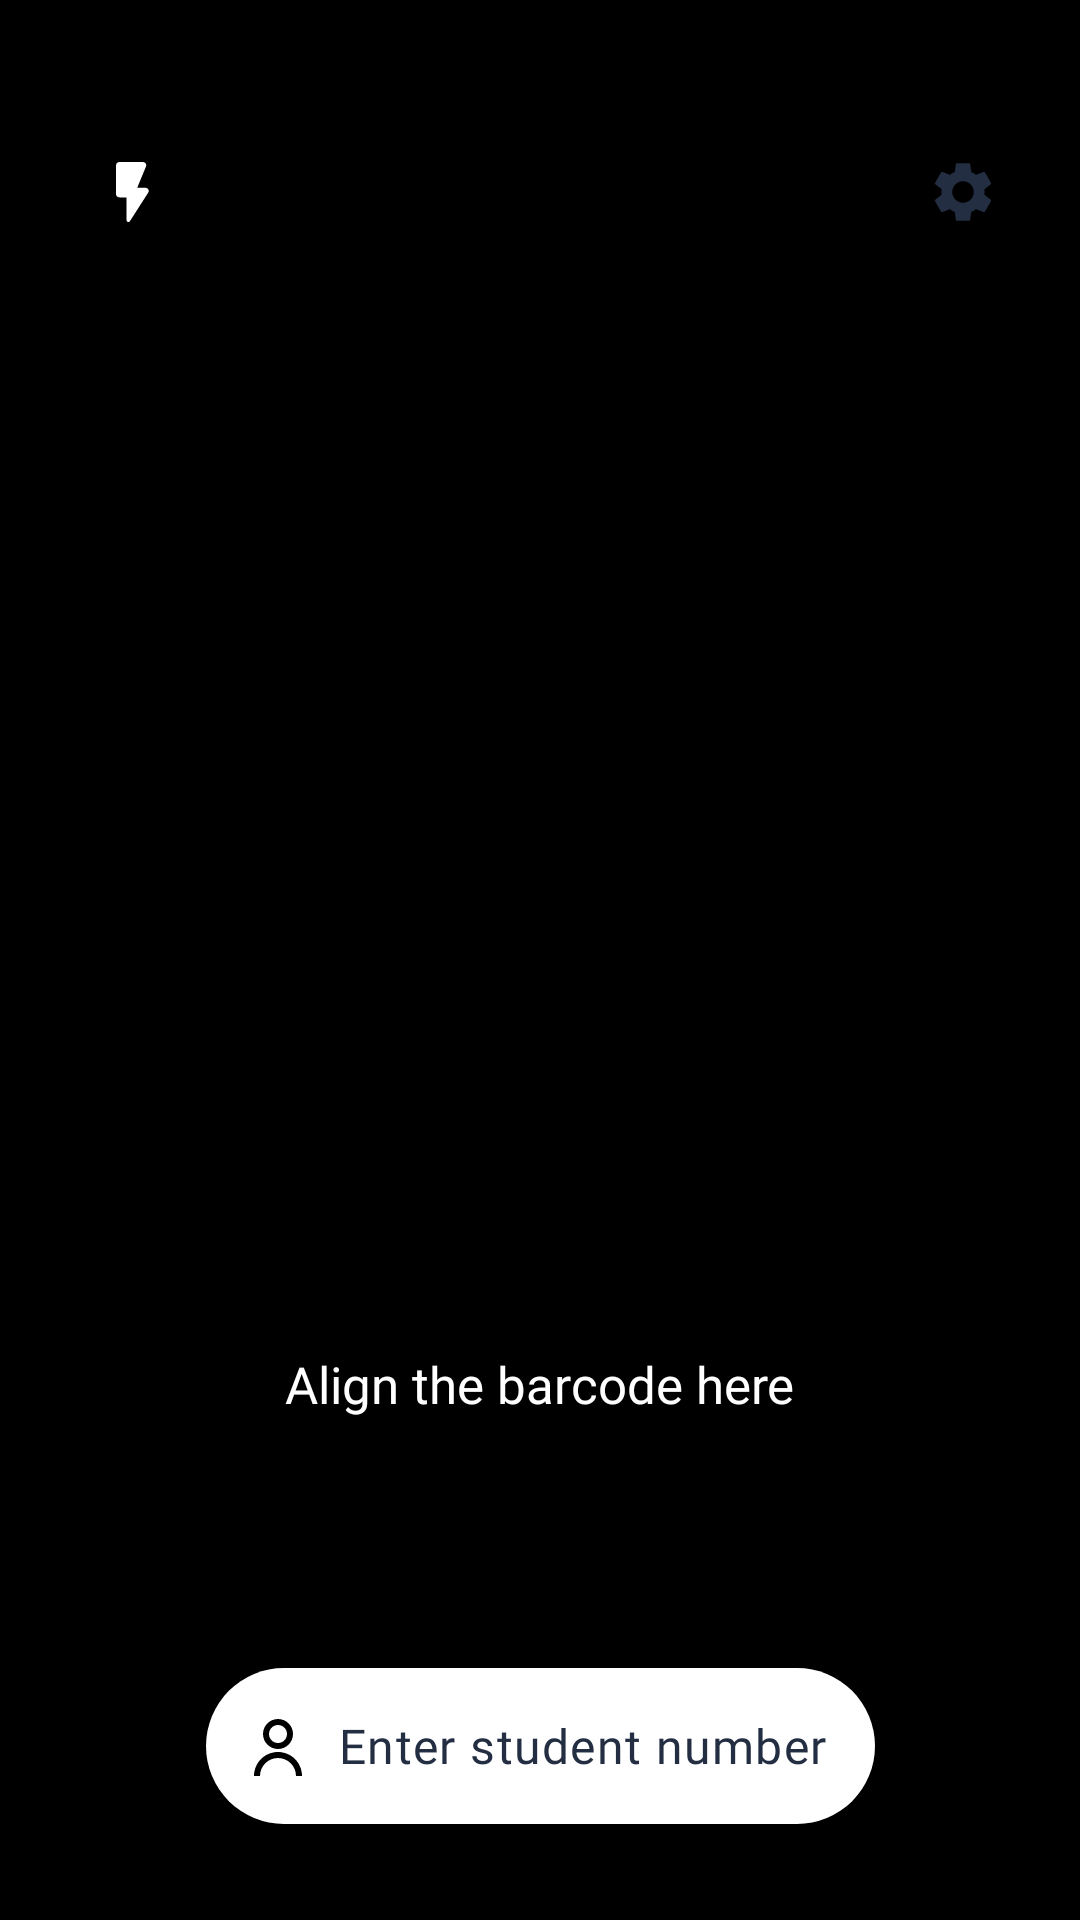

Icon click points for this 1080w x 1920h phone screenshot, format [x,y]:
flash icon: [132,192]
settings: [963,192]
